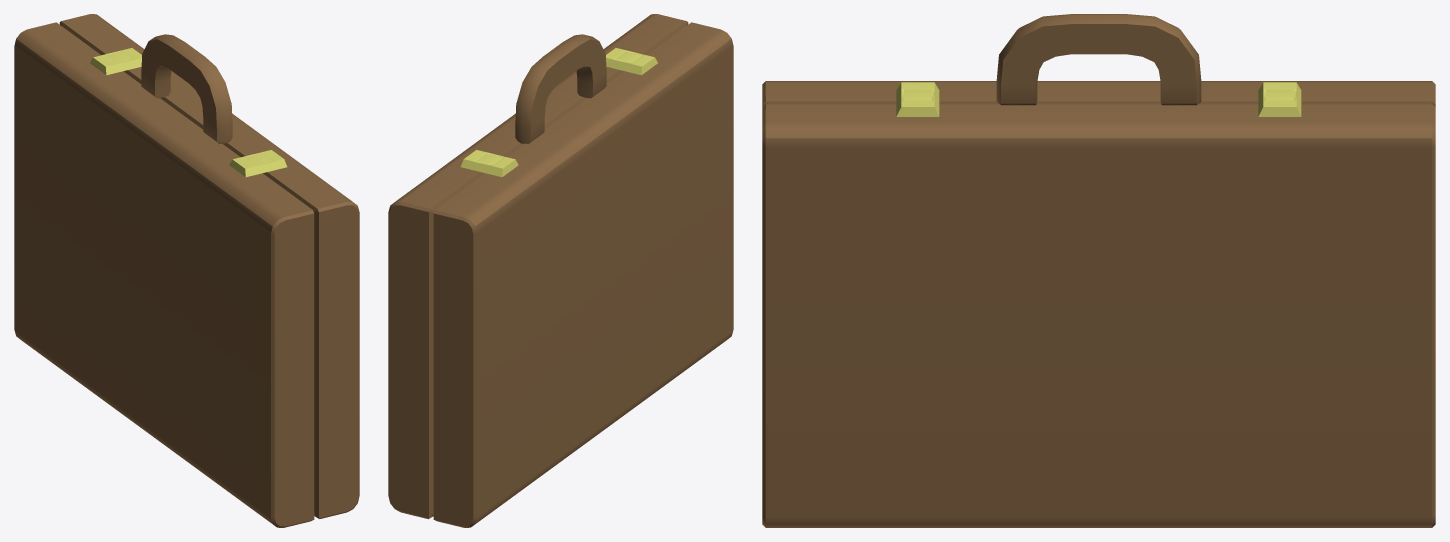
The model's file is suitcase_002.fbx.
3 views of the same model, side by side, from view 1: azimuth 30°, elevation 25°; view 2: azimuth 150°, elevation 25°; view 3: azimuth 270°, elevation 25° (orthographic). The views are drawn at different scales.
Parts seen in each view (by area): view 1: suitcase; view 2: suitcase; view 3: suitcase.
Part boxes in pixels (<box>): suitcase: <box>14,14,359,527</box>; suitcase: <box>388,14,733,527</box>; suitcase: <box>762,14,1435,527</box>.
Bounding box in the file's own units: 0.7659 × 3.13 × 3.89.
